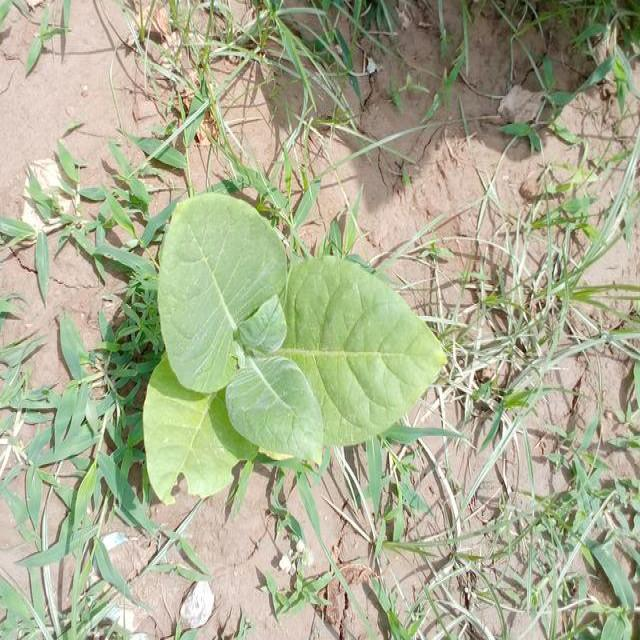crop: (144, 191, 446, 504)
